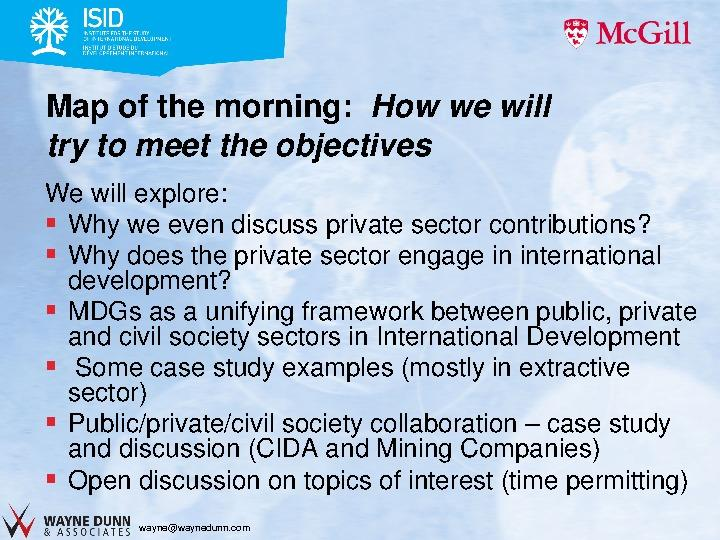paragraph: (26, 173, 709, 508)
subtitle: (42, 510, 255, 540)
title: (35, 78, 571, 178)
